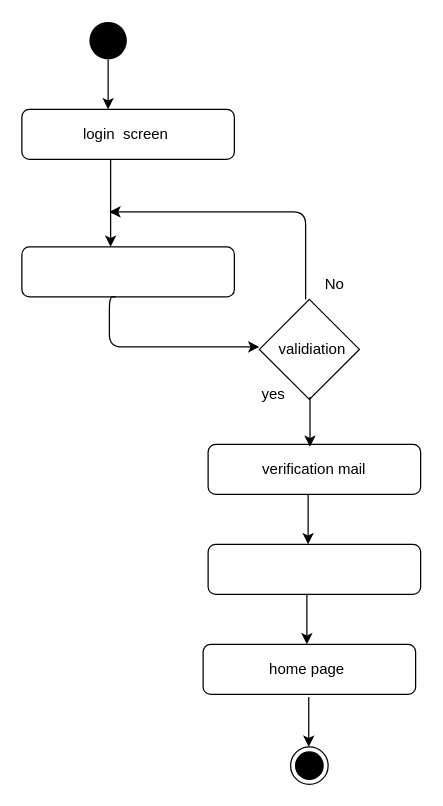
Some shapes in this 443 by 806 pixel diagram are drawn without their labels. The centre of each missing label's shape, as x and y in pixels:
"enter data" belongs at point (127, 271).
"show dialog" belongs at point (314, 568).
